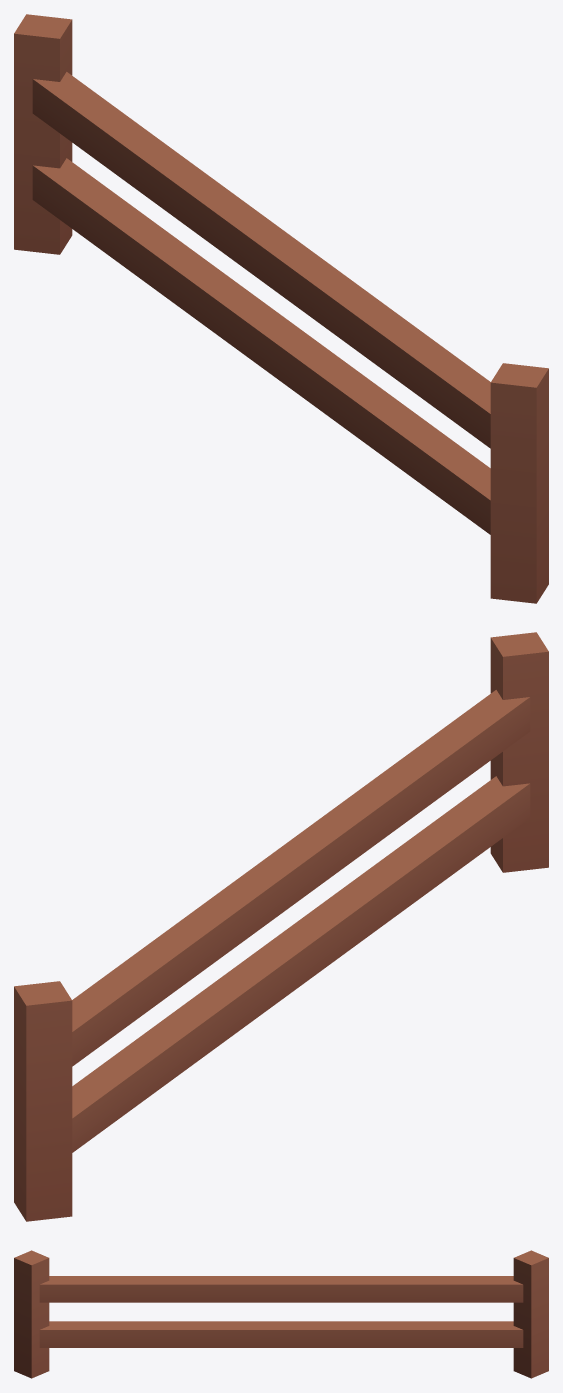
Rendered from fence.glb.
3 views of the same model, one above another, from view 1: azimuth 30°, elevation 25°; view 2: azimuth 150°, elevation 25°; view 3: azimuth 270°, elevation 25° (orthographic). The views are drawn at different scales.
Visible parts, largest first — view 1: fence; view 2: fence; view 3: fence.
Boxes of the visible parts, bbox=[...] form: fence: bbox=[14, 14, 548, 603]; fence: bbox=[14, 632, 548, 1221]; fence: bbox=[14, 1250, 548, 1378].
Size of the model in its own units: 0.0707 by 0.25 by 1.07.
Materials: 1 (1 with a texture image).
